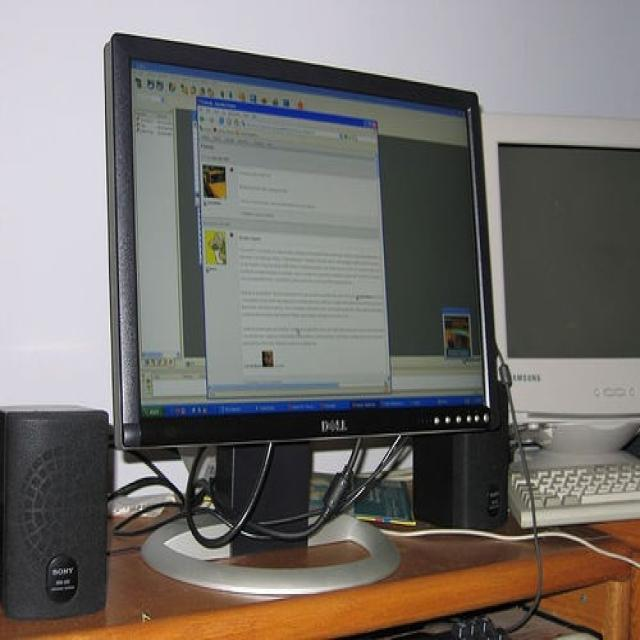tvmonitor: (96, 32, 502, 598), (480, 108, 639, 452)
